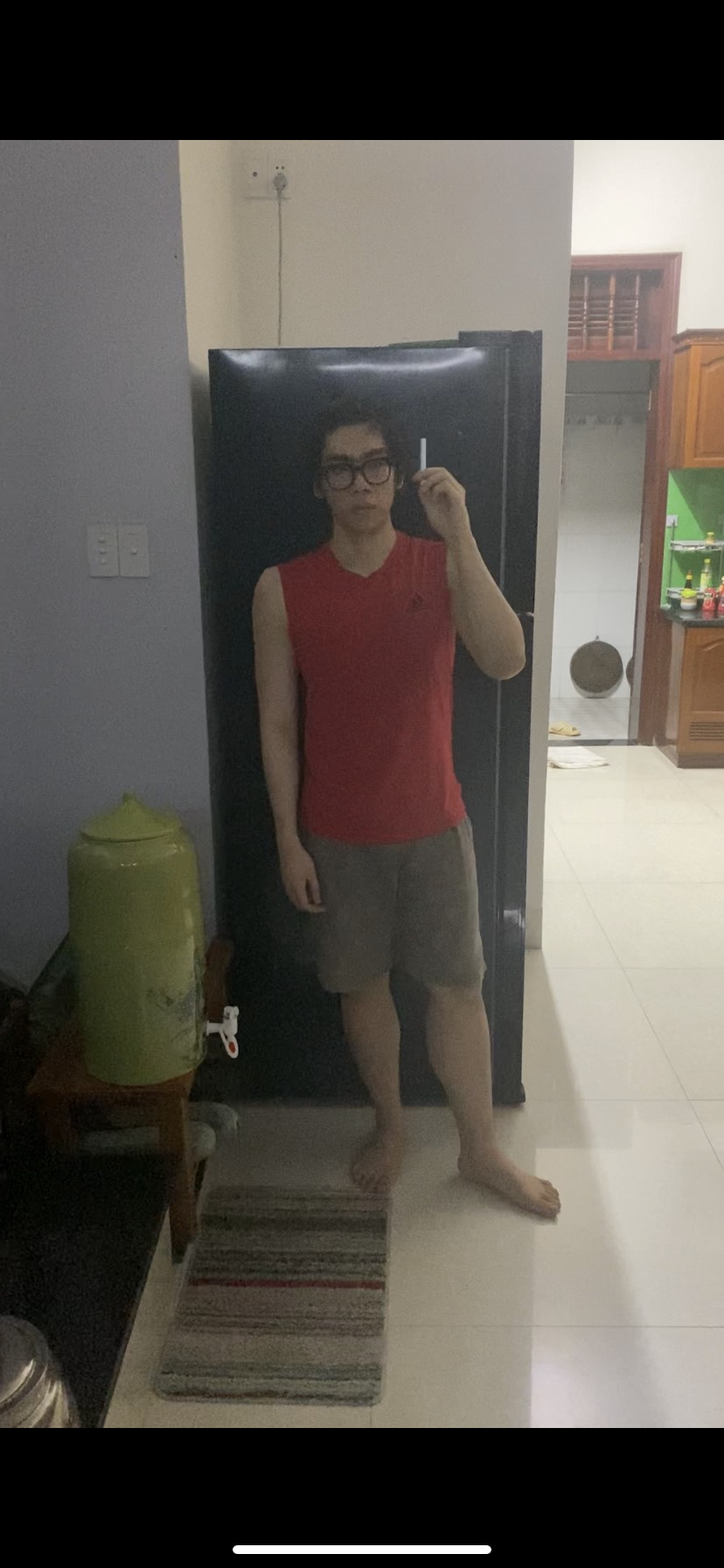cigarette: (416, 434, 431, 470)
person: (240, 370, 568, 1355)
